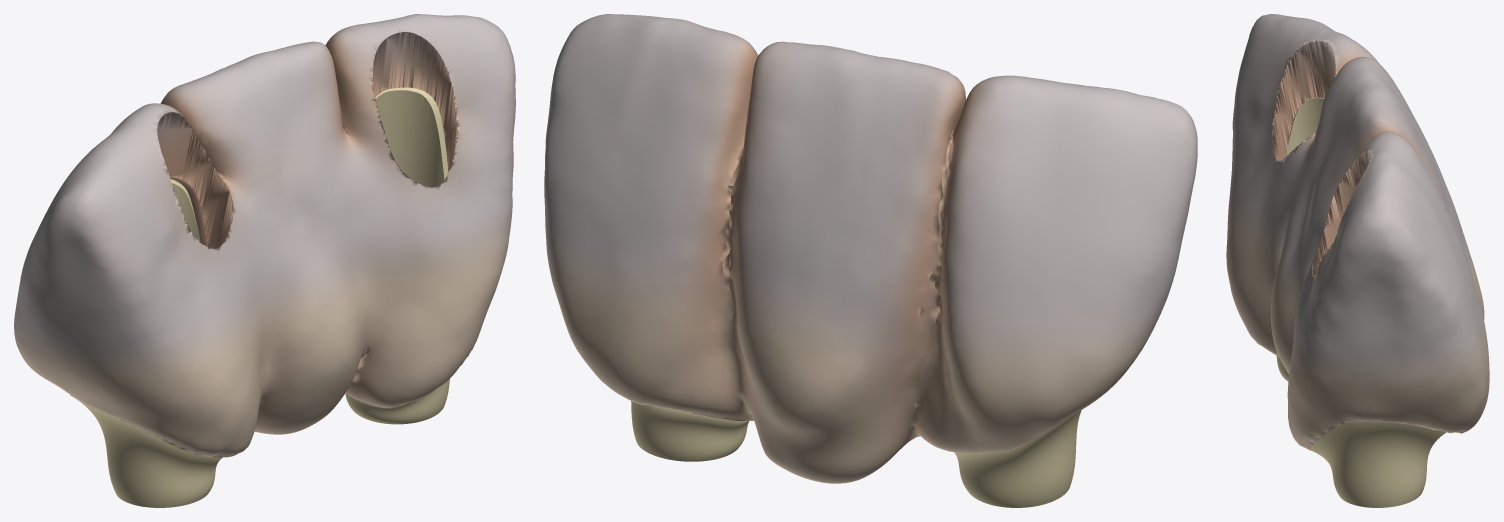
File: posteriorbridgetest.glb
3 renders of one model, left to right at view 1: azimuth 30°, elevation 25°; view 2: azimuth 150°, elevation 25°; view 3: azimuth 270°, elevation 25°, orthographic. The views are drawn at different scales.
Visible parts, largest first — view 1: crown_contour_Mesh.004, gold_Abutment, crown_contour_Mesh.006; view 2: crown_contour_Mesh.004, gold_Abutment; view 3: crown_contour_Mesh.004, gold_Abutment, crown_contour_Mesh.006.
Boxes of the visible parts, x1=… form: crown_contour_Mesh.004: x1=14, y1=14, x2=515, y2=457; gold_Abutment: x1=70, y1=87, x2=449, y2=507; crown_contour_Mesh.006: x1=157, y1=32, x2=456, y2=248; crown_contour_Mesh.004: x1=544, y1=14, x2=1197, y2=483; gold_Abutment: x1=631, y1=401, x2=1081, y2=507; crown_contour_Mesh.004: x1=1226, y1=14, x2=1489, y2=450; gold_Abutment: x1=1276, y1=97, x2=1445, y2=507; crown_contour_Mesh.006: x1=1272, y1=41, x2=1371, y2=275.
Size of the model in its own units: 17.05 by 12.17 by 8.46.
2 materials, 1 textured.
